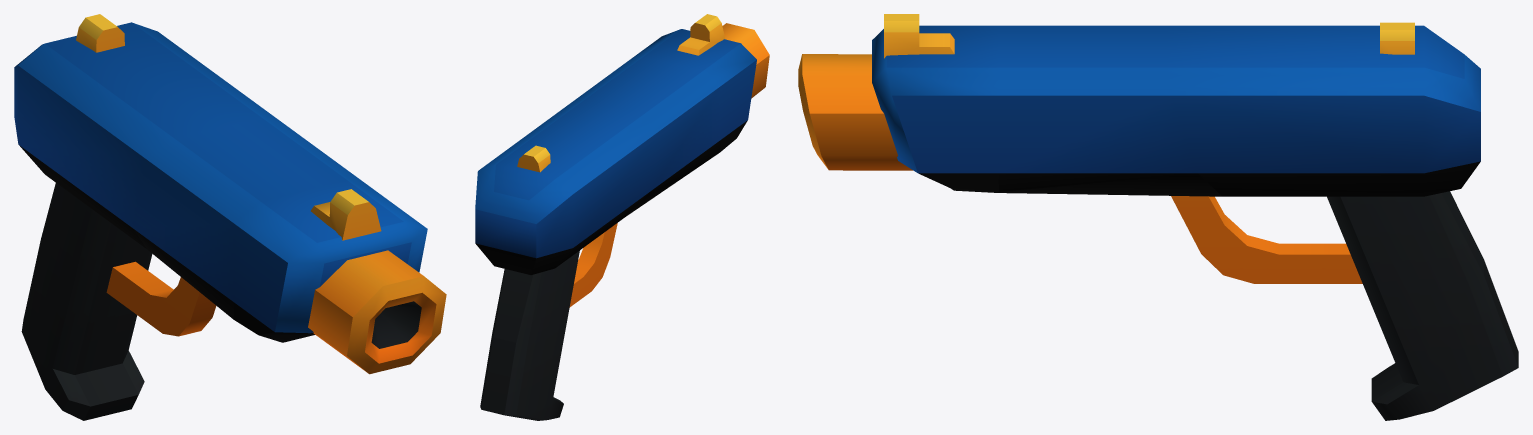
File: Glock.fbx
3 views of the same model, side by side, from view 1: azimuth 30°, elevation 25°; view 2: azimuth 150°, elevation 25°; view 3: azimuth 270°, elevation 25° (orthographic). The views are drawn at different scales.
Parts seen in each view (by area): view 1: Gun_Pistol; view 2: Gun_Pistol; view 3: Gun_Pistol.
Part boxes in pixels (x1=…): Gun_Pistol: x1=14, y1=14, x2=446, y2=420; Gun_Pistol: x1=475, y1=14, x2=769, y2=420; Gun_Pistol: x1=798, y1=14, x2=1518, y2=420.
Size of the model in its own units: 15.14 by 41.16 by 68.56.
Materials: 3 (2 with a texture image).
